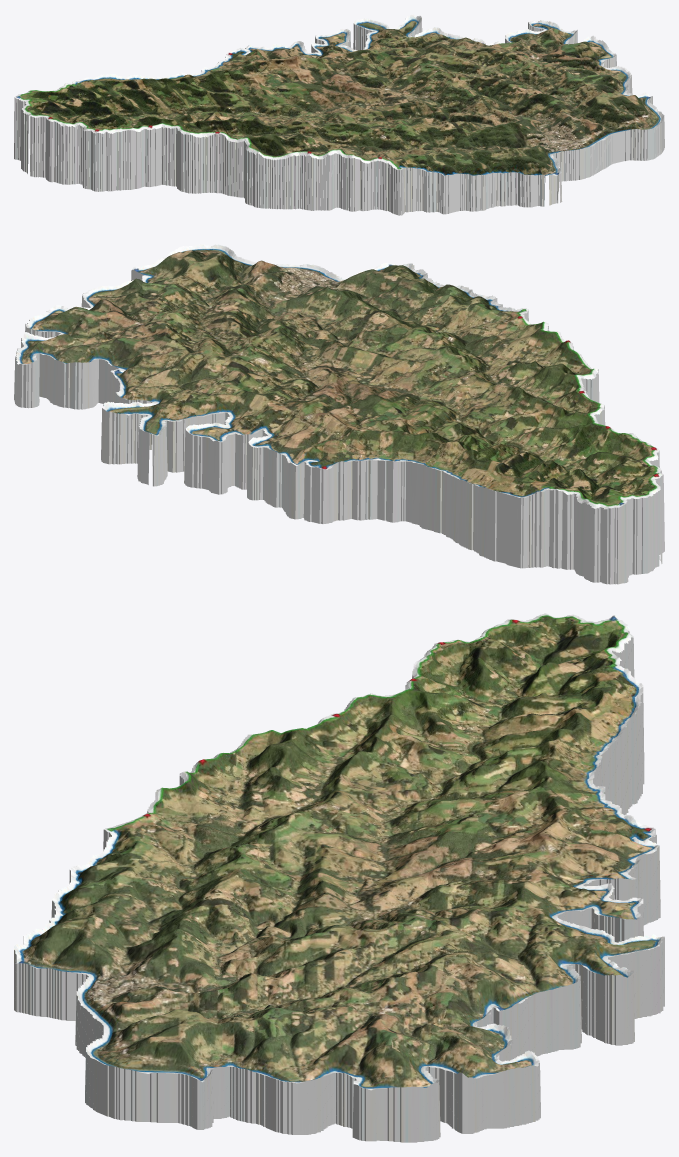
The picture shows the model from 3 angles, top to bottom: view 1: azimuth 30°, elevation 25°; view 2: azimuth 150°, elevation 25°; view 3: azimuth 270°, elevation 25°; orthographic projection. The views are drawn at different scales.
Size of the model in its own units: 0.9999 by 0.1102 by 0.6383.
Materials: 1 (1 with a texture image).
